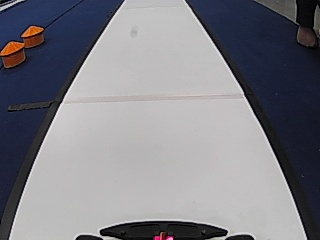granary: (0, 39, 27, 68), (20, 24, 46, 49)
